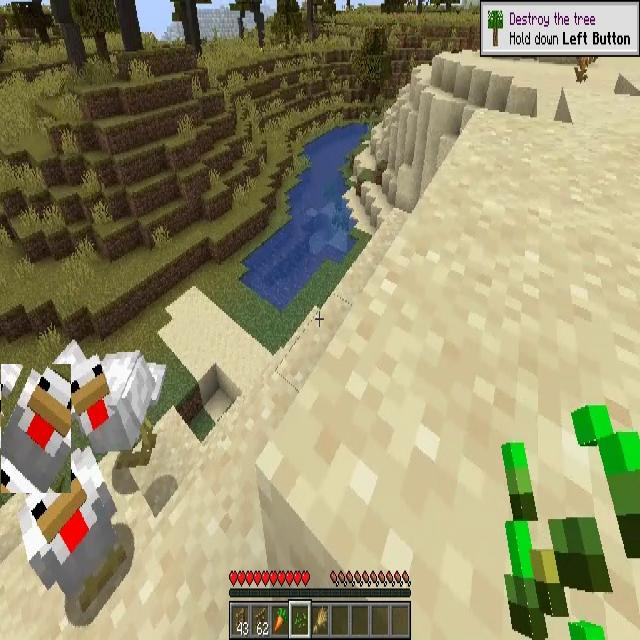duck: (18, 448, 122, 600), (64, 346, 164, 454), (1, 364, 71, 493)
